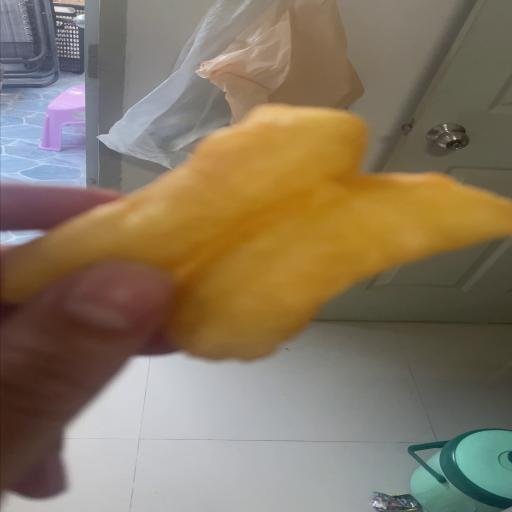street_golden_good: (1, 104, 512, 360)
